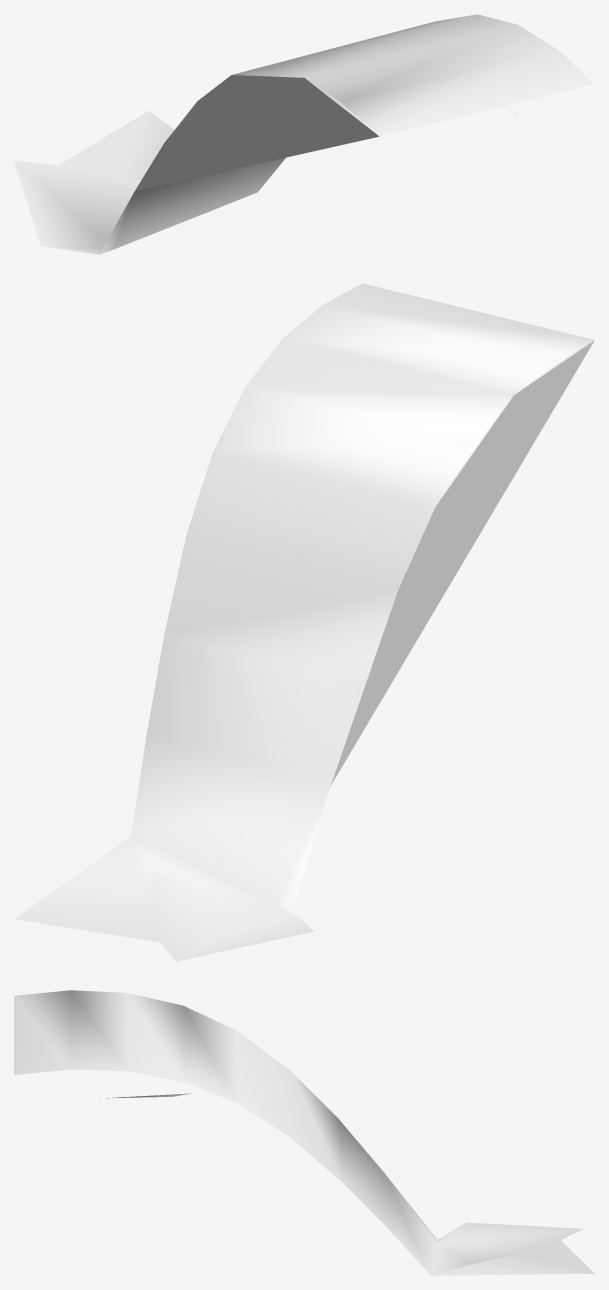
3 renders of one model, top to bottom at view 1: azimuth 30°, elevation 25°; view 2: azimuth 150°, elevation 25°; view 3: azimuth 270°, elevation 25°, orthographic. The views are drawn at different scales.
Size of the model in its own units: 0.2422 by 0.3004 by 0.6332.
Materials: 1 (1 with a texture image).
